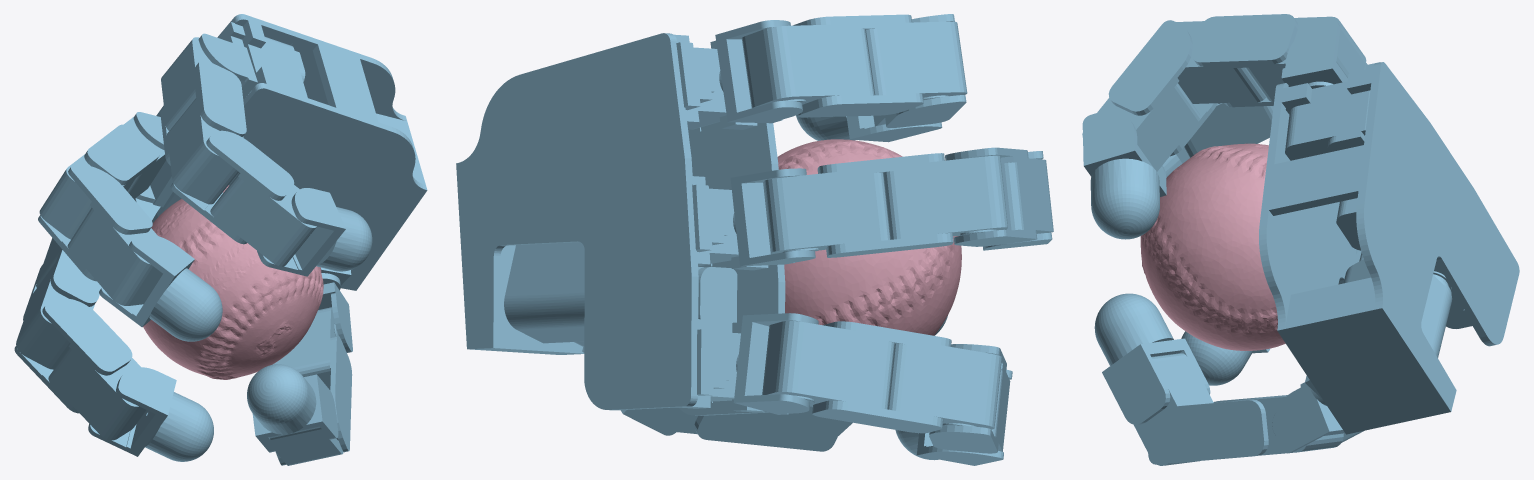
The picture shows the model from 3 angles, left to right: view 1: azimuth 30°, elevation 25°; view 2: azimuth 150°, elevation 25°; view 3: azimuth 270°, elevation 25°; orthographic projection. The views are drawn at different scales.
Visible parts, largest first — view 1: world, baseball.stl; view 2: world, baseball.stl; view 3: world, baseball.stl.
Boxes of the visible parts, x1,y1,x2,y2 form: world: [14, 14, 427, 465]; baseball.stl: [143, 185, 323, 379]; world: [456, 14, 1053, 465]; baseball.stl: [777, 139, 961, 335]; world: [1082, 14, 1519, 465]; baseball.stl: [1140, 143, 1285, 350].
Bounding box in the file's own units: 0.1794 × 0.1646 × 0.152.
